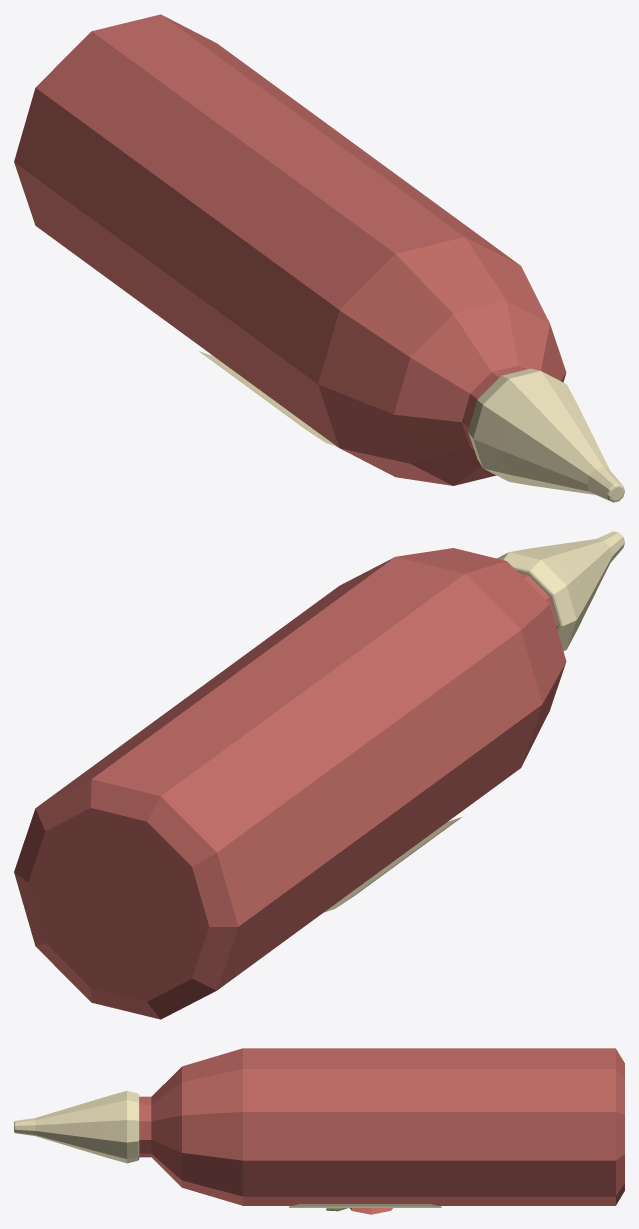
Rendered from ketchup.glb.
The picture shows the model from 3 angles, top to bottom: view 1: azimuth 30°, elevation 25°; view 2: azimuth 150°, elevation 25°; view 3: azimuth 270°, elevation 25°; orthographic projection. The views are drawn at different scales.
Visible parts, largest first — view 1: ketchup; view 2: ketchup; view 3: ketchup.
Part boxes in pixels (<box>): ketchup: <box>14,14,624,502</box>; ketchup: <box>14,531,624,1019</box>; ketchup: <box>14,1048,624,1214</box>.
Size of the model in its own units: 0.052 by 0.0534 by 0.2.
